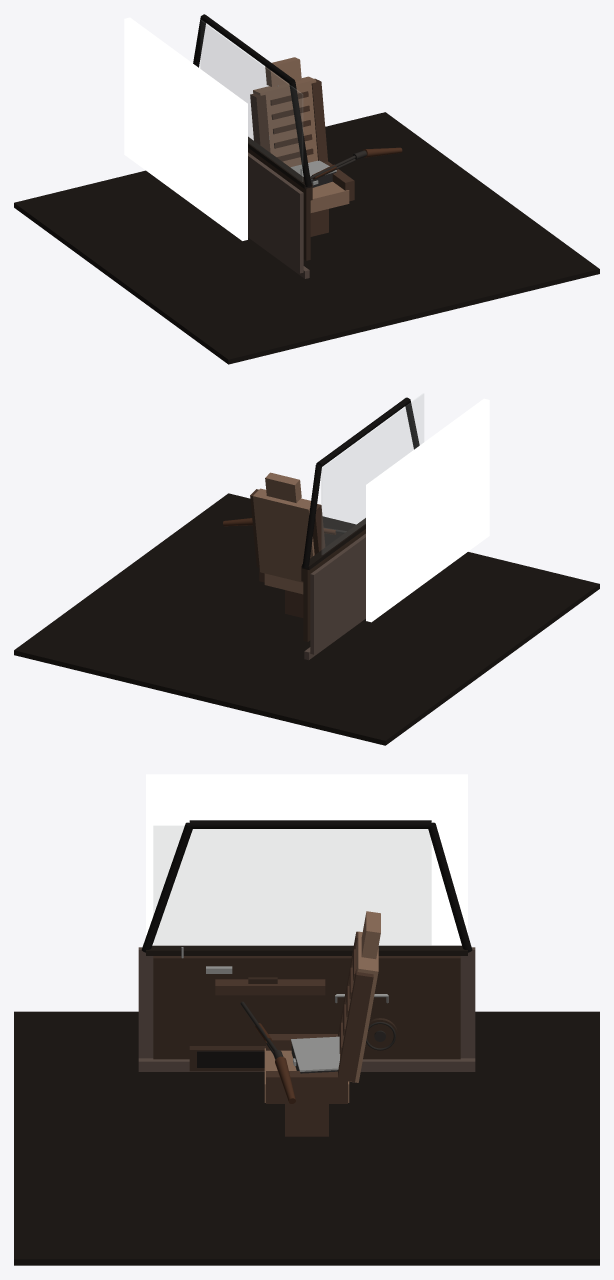
File: car.glb
3 views of the same model, one above another, from view 1: azimuth 30°, elevation 25°; view 2: azimuth 150°, elevation 25°; view 3: azimuth 270°, elevation 25° (orthographic). The views are drawn at different scales.
Visible parts, largest first — view 1: plancher, lumiere_fenetre, vitre, tole_exterieure, dossier_coussin, assise, bourrelet_dossier_d, bourrelet_dossier_g, traverse_haute, montant_avant, jonc_vitre, appui_tete (+1 smaller); view 2: plancher, lumiere_fenetre, vitre, tole_exterieure, dossier_coussin, appui_tete, traverse_haute, montant_arriere, jonc_vitre, assise, planche_de_porte; view 3: plancher, lumiere_fenetre, vitre, planche_de_porte, garniture_haute, tole_exterieure, jonc_vitre, bourrelet_d, seuil, traverse_haute, bourrelet_dossier_d, accoudoir (+9 smaller).
Part boxes in pixels (box(x1,y1,x2,y2)): plancher: box(14, 112, 599, 364); lumiere_fenetre: box(124, 17, 247, 240); vitre: box(201, 20, 302, 181); tole_exterieure: box(248, 152, 303, 273); dossier_coussin: box(253, 76, 317, 167); assise: box(310, 181, 349, 212); bourrelet_dossier_d: box(311, 78, 327, 162); bourrelet_dossier_g: box(250, 93, 270, 152); traverse_haute: box(201, 14, 294, 83); montant_avant: box(289, 81, 311, 186); jonc_vitre: box(248, 136, 311, 188); appui_tete: box(265, 57, 301, 86); plancher: box(14, 493, 599, 745); lumiere_fenetre: box(366, 398, 489, 622); vitre: box(322, 394, 423, 554); tole_exterieure: box(310, 533, 365, 654); dossier_coussin: box(253, 488, 314, 582); appui_tete: box(265, 472, 301, 502); traverse_haute: box(316, 397, 410, 466); montant_arriere: box(302, 464, 321, 568); jonc_vitre: box(302, 518, 365, 569); assise: box(264, 573, 303, 594); planche_de_porte: box(303, 580, 310, 641); plancher: box(14, 1011, 599, 1265); lumiere_fenetre: box(146, 774, 467, 945); vitre: box(154, 826, 430, 944); planche_de_porte: box(153, 979, 460, 1059); garniture_haute: box(153, 956, 460, 979); tole_exterieure: box(138, 947, 475, 1058); jonc_vitre: box(146, 945, 467, 955); bourrelet_d: box(266, 1071, 347, 1103); seuil: box(138, 1058, 475, 1071); traverse_haute: box(189, 820, 431, 828); bourrelet_dossier_d: box(338, 968, 373, 1082); accoudoir: box(215, 979, 325, 995).
Size of the model in its own units: 4 by 2.15 by 4.
